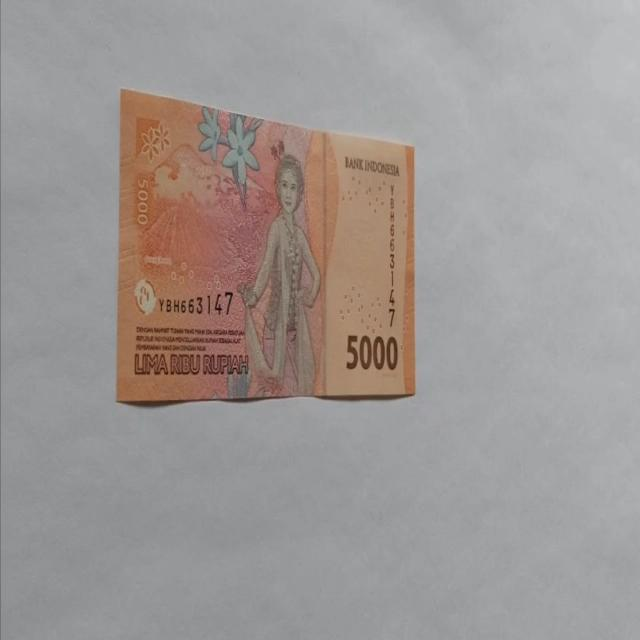lima ribu rupiah: (116, 86, 417, 404), (236, 152, 322, 398)
